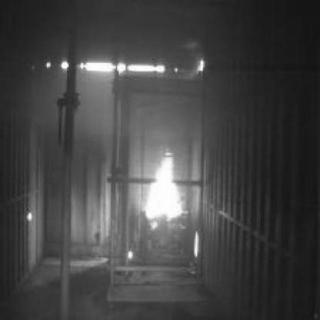other: (125, 246, 133, 260)
